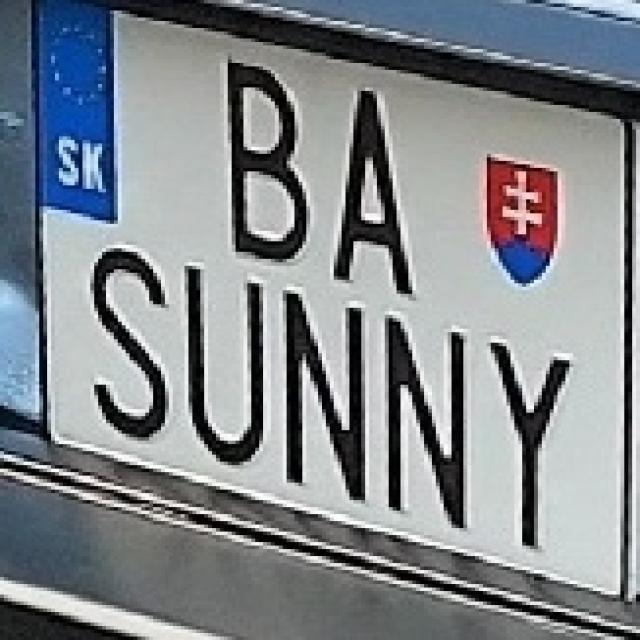A: (314, 70, 424, 298)
B: (208, 48, 318, 270)
N: (263, 272, 373, 503), (365, 301, 475, 528)
S: (70, 230, 172, 444)
U: (165, 244, 267, 468)
Y: (471, 325, 581, 553)
